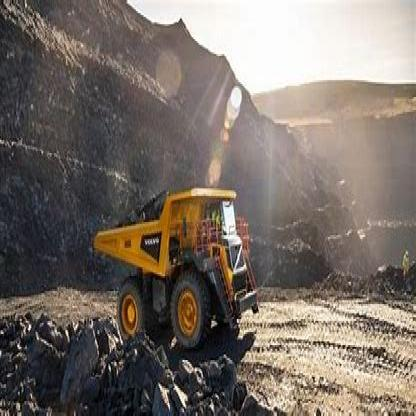dump_truck: (89, 184, 268, 352)
